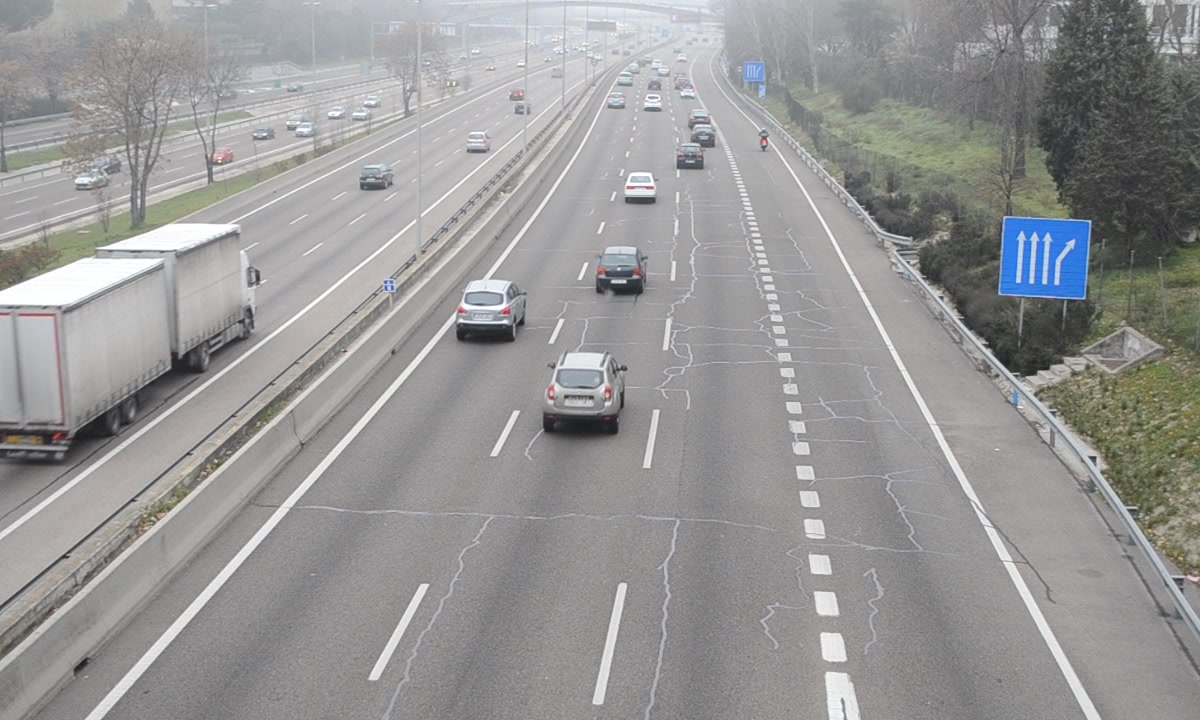car: (544, 351, 624, 421), (459, 279, 526, 331), (595, 246, 645, 292), (625, 170, 657, 202), (676, 143, 704, 170)
motorcycle: (758, 126, 771, 153)
